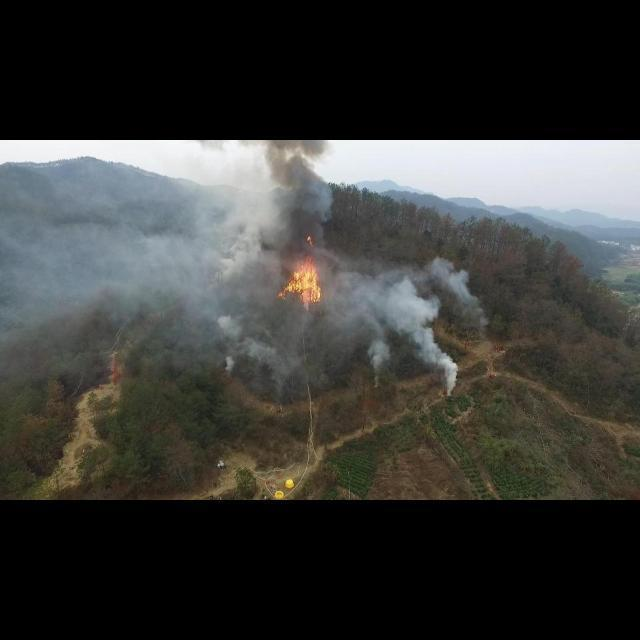Fire: (278, 255, 322, 303)
Smoke: (1, 140, 489, 400)
